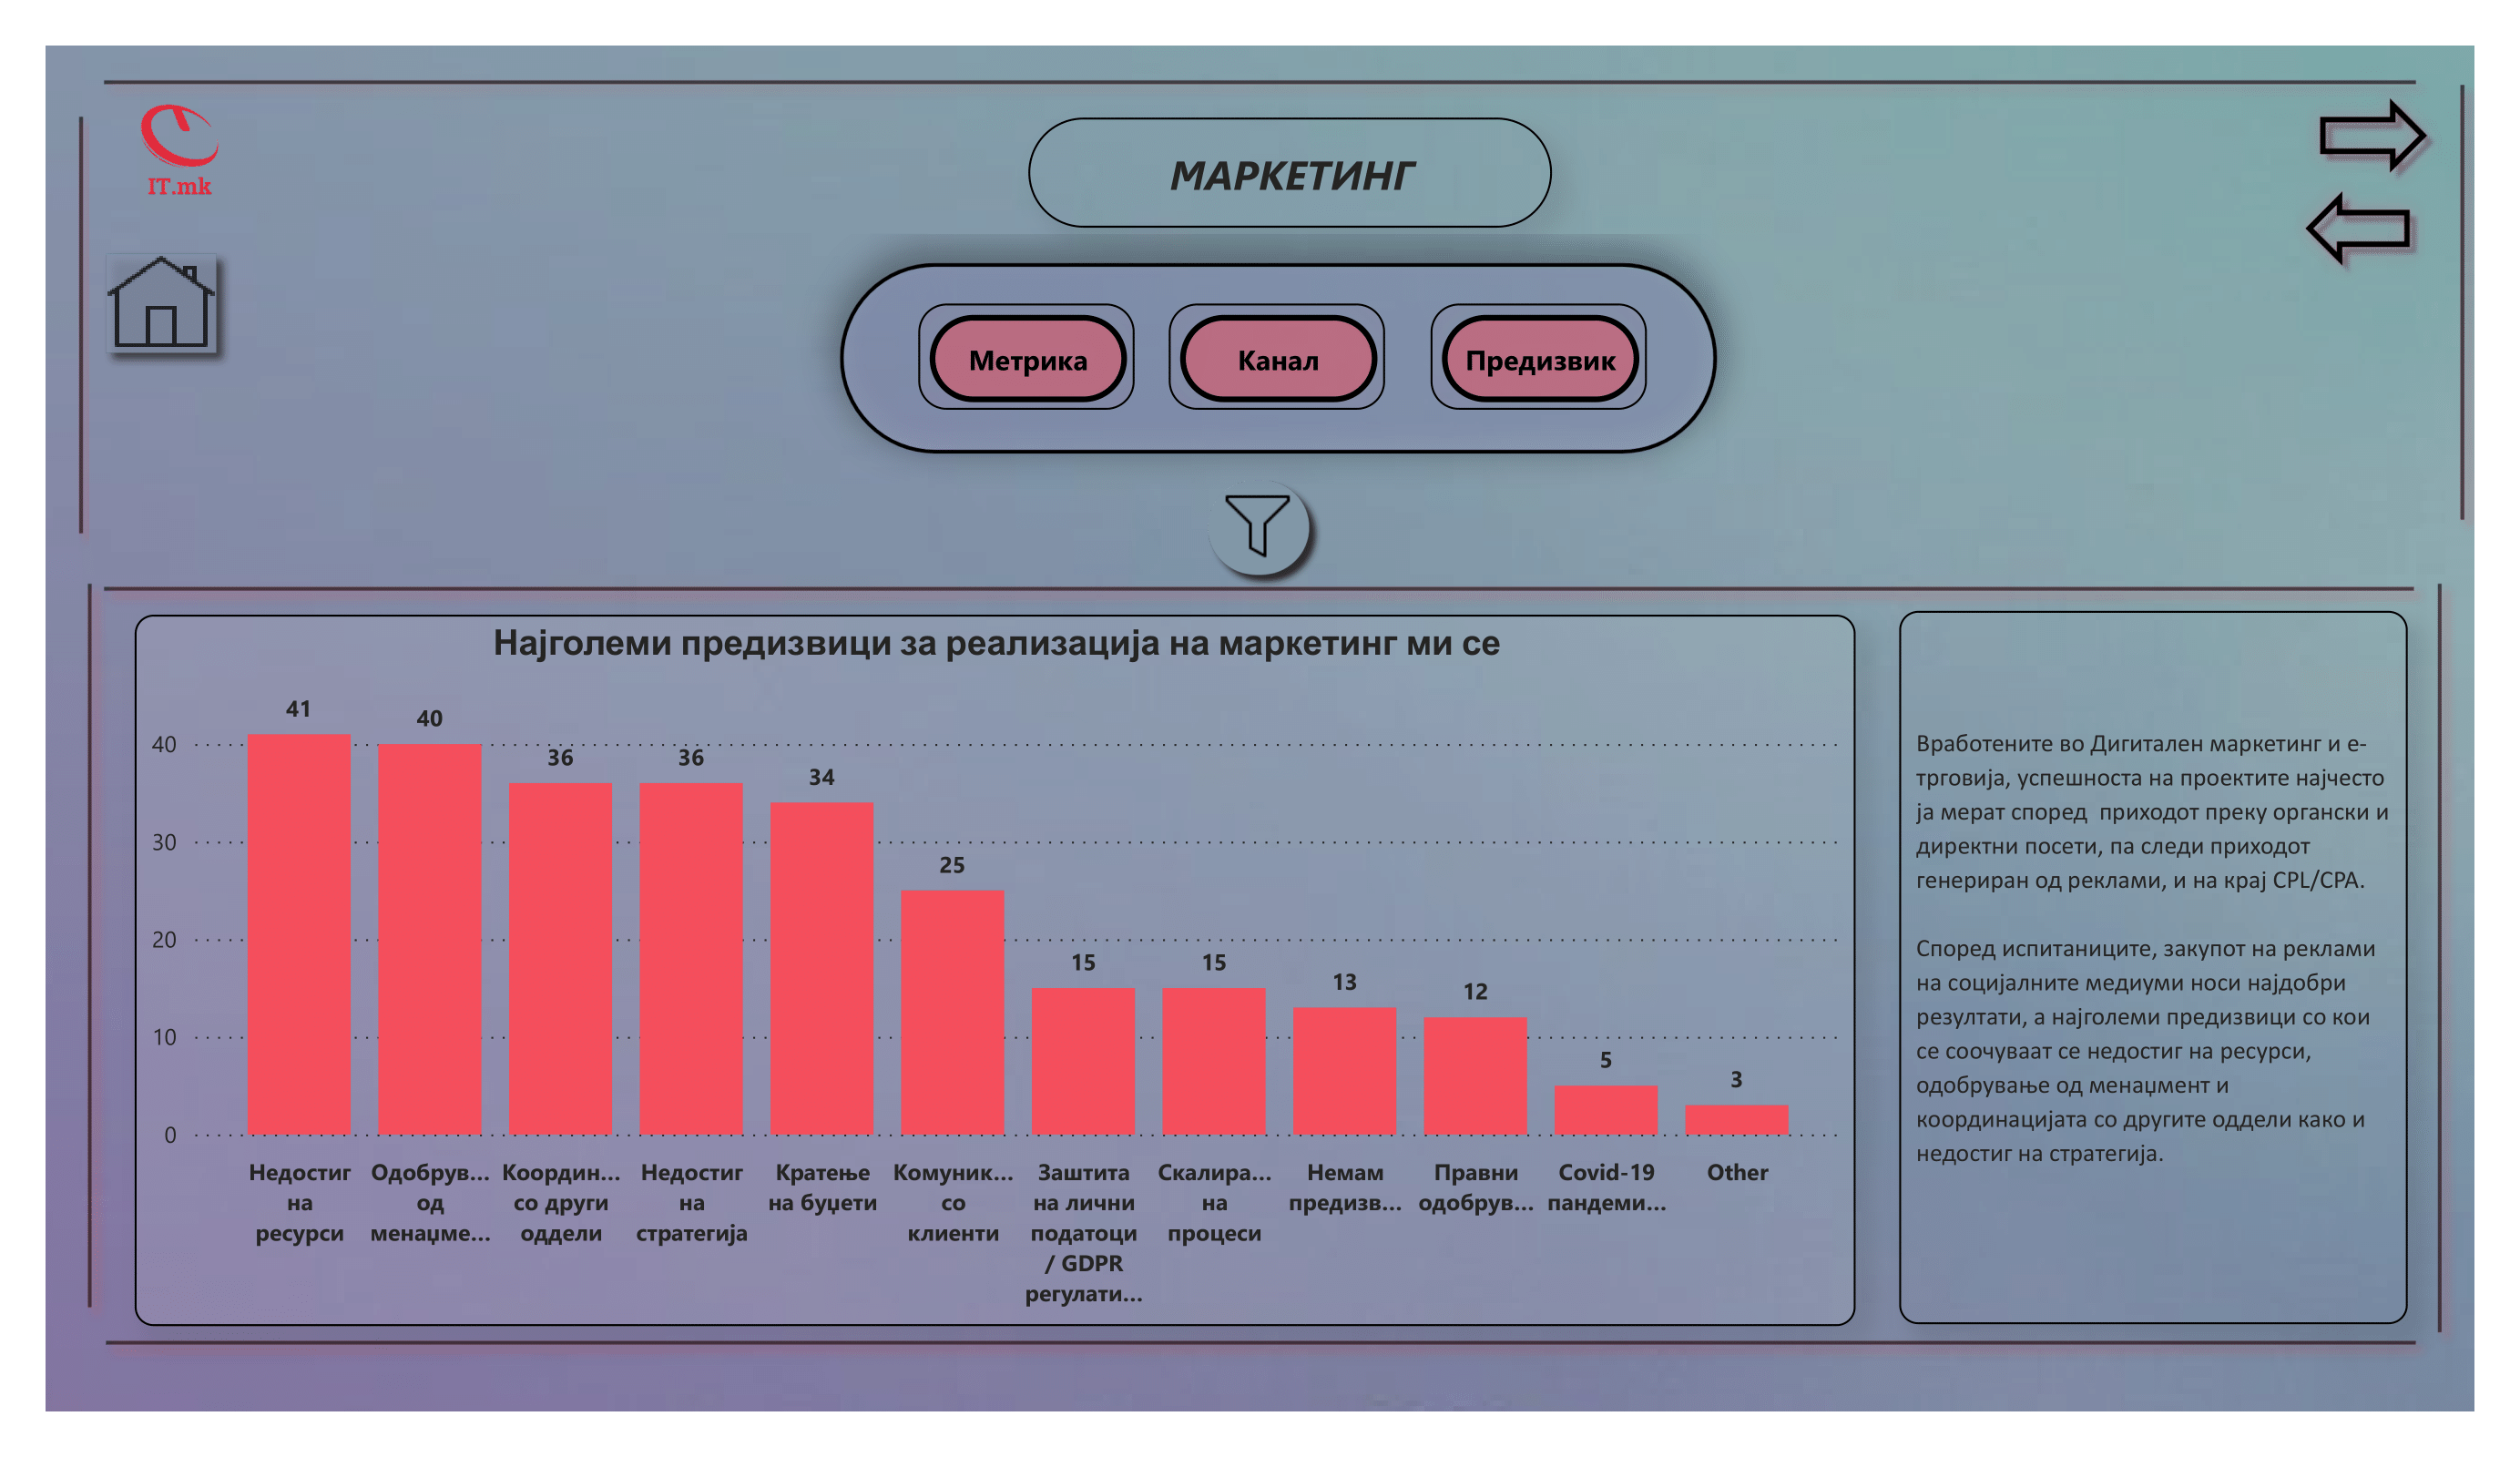

This screenshot's page, from the dashboard's own definition file:
{"tool":"powerbi","page":{"name":"Маркетинг","canvas":[1280,720],"ordinal":5},"visuals":[{"type":"actionButton","box":[1191.4,19.8,71.1,54.8],"z":0},{"type":"actionButton","box":[1183.2,68.8,71.1,54.8],"z":1000},{"type":"actionButton","box":[605.5,221.2,68.5,65.9],"z":2000},{"type":"actionButton","box":[22.8,100.6,75.7,70.5],"z":3000},{"type":"image","box":[23.1,19.2,95.2,71.2],"z":4000},{"type":"shape","box":[22.4,9.7,1235.3,19.5],"z":5000},{"type":"textbox","box":[517.5,38.2,276.8,57.4],"z":6000},{"type":"shape","box":[10.5,29.1,12.8,236.6],"z":7000},{"type":"shape","box":[22.1,275.1,1234.5,23.3],"z":8000},{"type":"shape","box":[0,275.1,46.6,398.7],"z":9000},{"type":"shape","box":[22.5,673.9,1235.2,20.2],"z":10000},{"type":"shape","box":[1253.2,275.1,17.5,411.5],"z":11000},{"type":"shape","box":[1264.5,12.4,15.8,246.4],"z":12000},{"type":"textbox","box":[976.9,298.4,268.1,375.4],"z":13000},{"type":"shape","box":[393.8,90.2,511.8,150.1],"z":14000},{"type":"actionButton","box":[729.5,136.2,114.5,55.5],"z":15000},{"type":"actionButton","box":[591.6,136.2,114.5,55.5],"z":16000},{"type":"actionButton","box":[459.8,136.2,114.5,55.5],"z":17000},{"type":"clusteredColumnChart","title":"Најголеми предизвици за реализација на маркетинг ми се","fields":{"Y":["CountNonNull(Mapiranje 2019-2022.Index)"],"Category":["14.Q14 Најголеми предизвици за реализација на маркетинг ми се (groups)"]},"box":[47,300,907,375],"z":20000}]}

Visuals, with their boxes on the page's 1280x720 design canvas (x1, y1, x2, y2). These are canvas units, not pixel positions in the 2520x1457 screenshot, which may show the page scaled, cropped or inside an application window:
actionButton: <bbox>1191, 20, 1262, 75</bbox>
actionButton: <bbox>1183, 69, 1254, 124</bbox>
actionButton: <bbox>606, 221, 674, 287</bbox>
actionButton: <bbox>23, 101, 98, 171</bbox>
image: <bbox>23, 19, 118, 90</bbox>
shape: <bbox>22, 10, 1258, 29</bbox>
textbox: <bbox>518, 38, 794, 96</bbox>
shape: <bbox>10, 29, 23, 266</bbox>
shape: <bbox>22, 275, 1257, 298</bbox>
shape: <bbox>0, 275, 47, 674</bbox>
shape: <bbox>22, 674, 1258, 694</bbox>
shape: <bbox>1253, 275, 1271, 687</bbox>
shape: <bbox>1264, 12, 1280, 259</bbox>
textbox: <bbox>977, 298, 1245, 674</bbox>
shape: <bbox>394, 90, 906, 240</bbox>
actionButton: <bbox>730, 136, 844, 192</bbox>
actionButton: <bbox>592, 136, 706, 192</bbox>
actionButton: <bbox>460, 136, 574, 192</bbox>
"Најголеми предизвици за реализација на маркетинг ми се" clusteredColumnChart: <bbox>47, 300, 954, 675</bbox>
